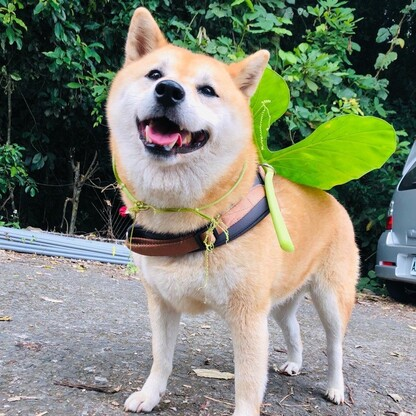shiba: (99, 1, 368, 416)
